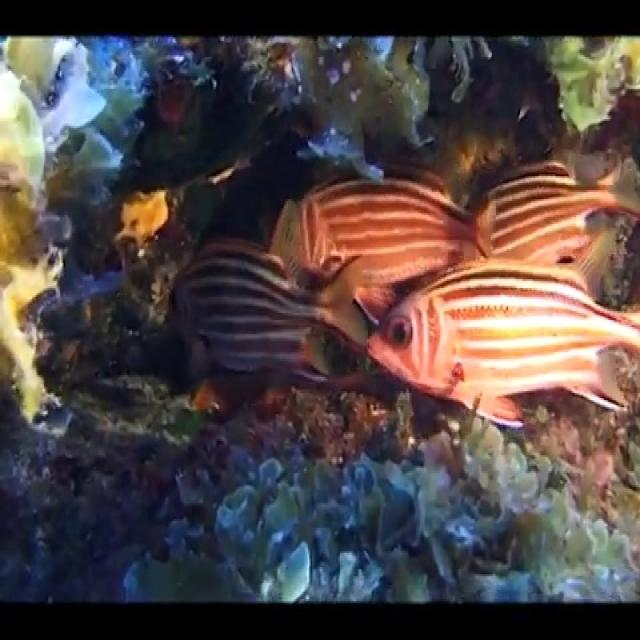Asker Baligi: (364, 256, 639, 428), (142, 253, 350, 385)
